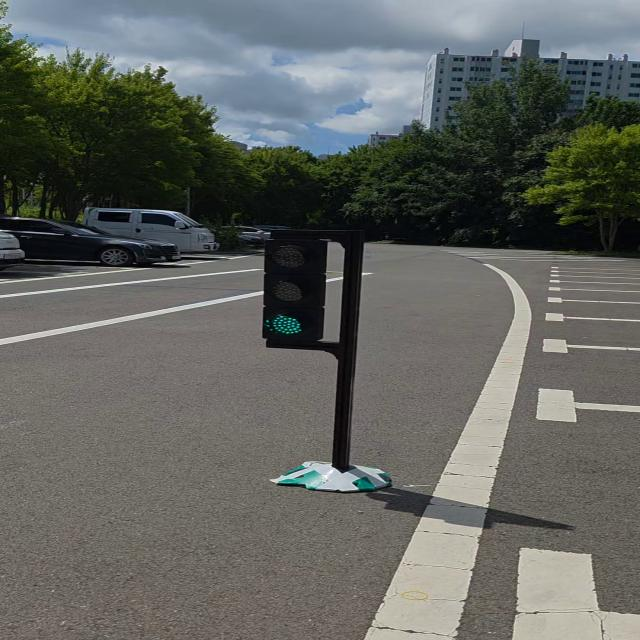green: (261, 235, 327, 343)
